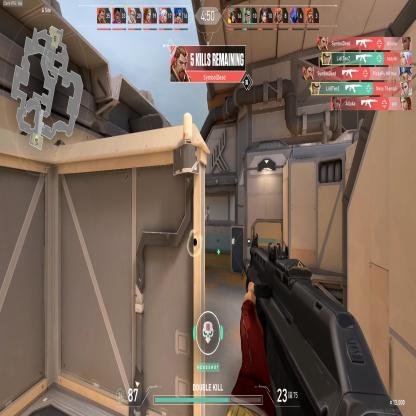enemy: (206, 209, 210, 226)
